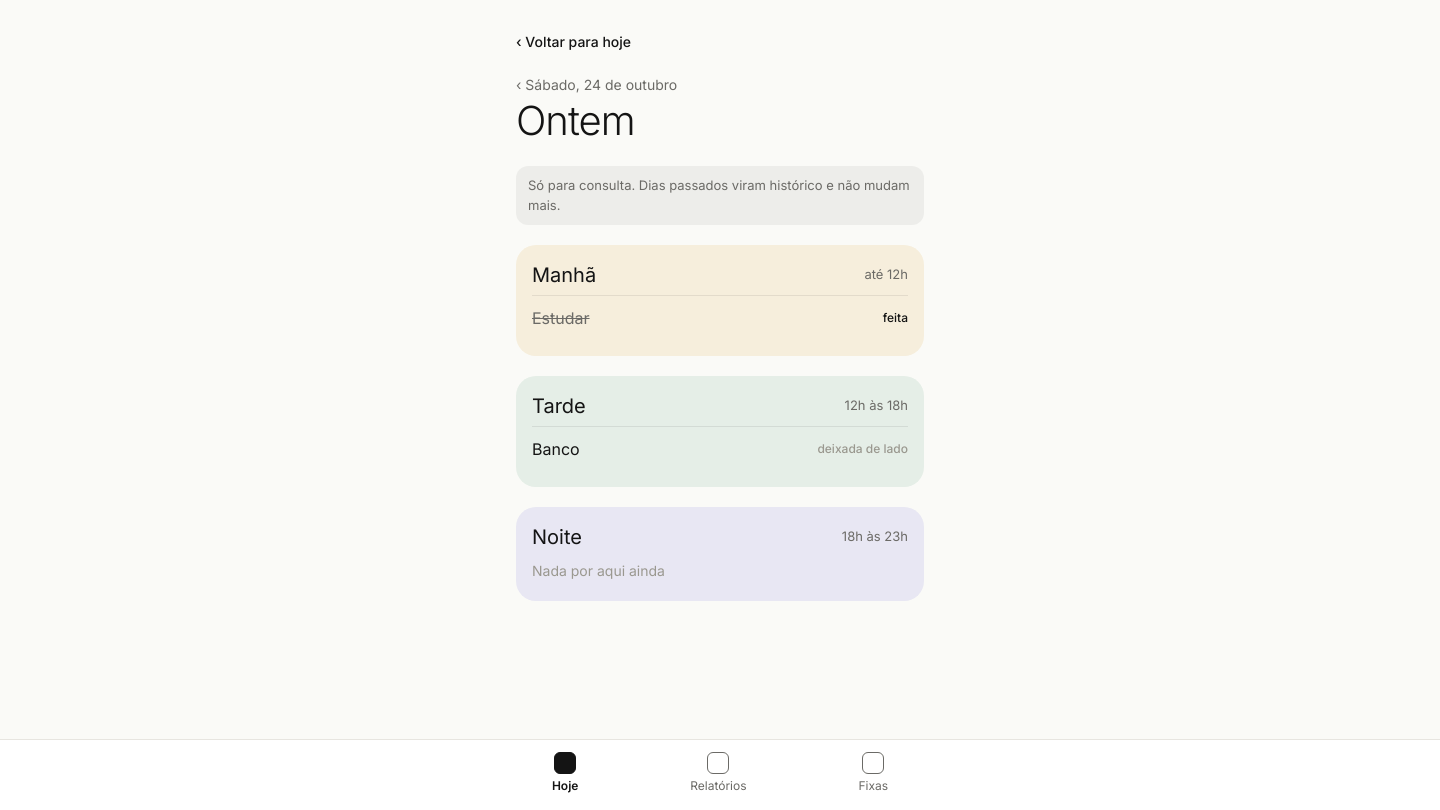
Test case: J7: dias passados são só consulta › mostra o histórico e explica por que não dá para mudar
Check: the heading "Ontem" is shown, box 516,96 -> 635,145
Check: the text "deixada de lado" is shown, box 817,441 -> 908,457
Step 1. Click the button "Banco deixada de lado" → click(556, 449), box 532,426 -> 908,471
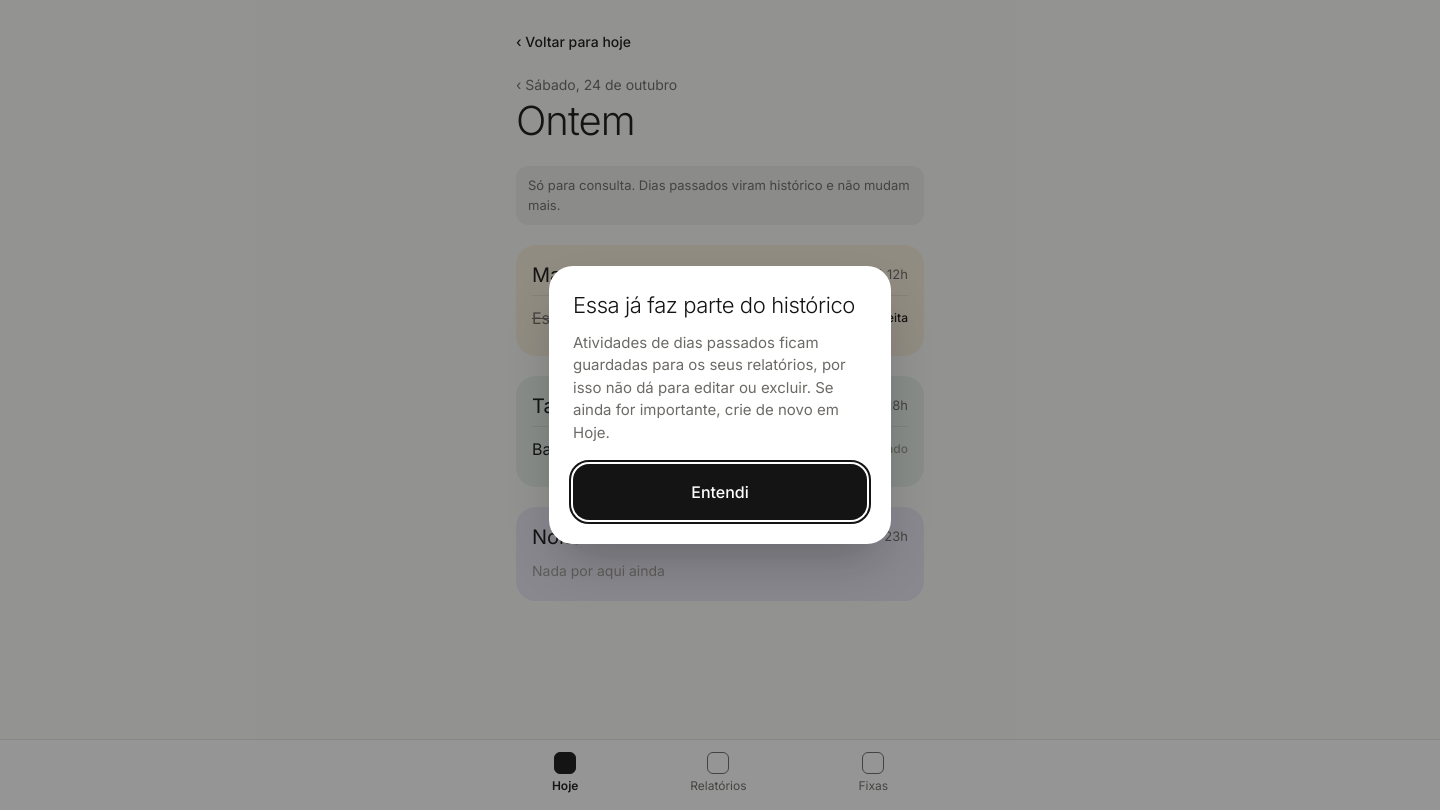
Check: the dialog "Essa já faz parte do histórico" is shown, box 549,266 -> 891,544
